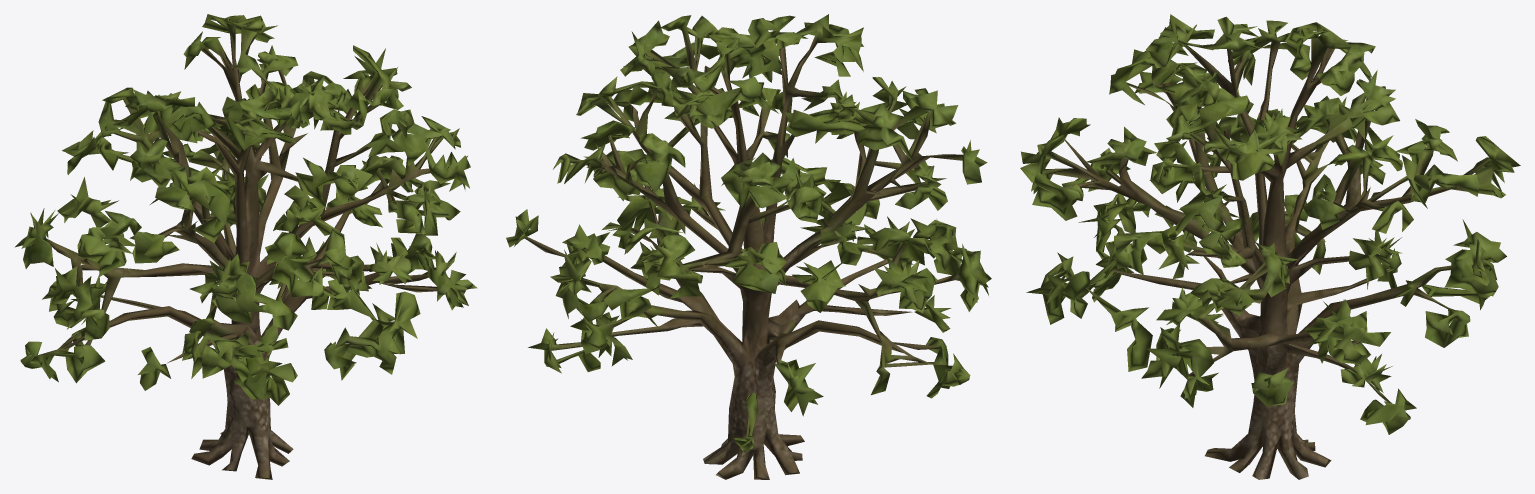
Rendered from tree_plane.glb.
The picture shows the model from 3 angles, left to right: view 1: azimuth 30°, elevation 25°; view 2: azimuth 150°, elevation 25°; view 3: azimuth 270°, elevation 25°; orthographic projection. The views are drawn at different scales.
Visible parts, largest first — view 1: tripo_node_802214af-69c7-4657-8526-b216e12e2242; view 2: tripo_node_802214af-69c7-4657-8526-b216e12e2242; view 3: tripo_node_802214af-69c7-4657-8526-b216e12e2242.
Part boxes in pixels (box(x1,y1,x2,y2)): tripo_node_802214af-69c7-4657-8526-b216e12e2242: box(15, 14, 477, 479); tripo_node_802214af-69c7-4657-8526-b216e12e2242: box(506, 14, 991, 479); tripo_node_802214af-69c7-4657-8526-b216e12e2242: box(1020, 14, 1520, 479).
Size of the model in its own units: 12.65 by 12 by 12.42.
Materials: 1 (1 with a texture image).
